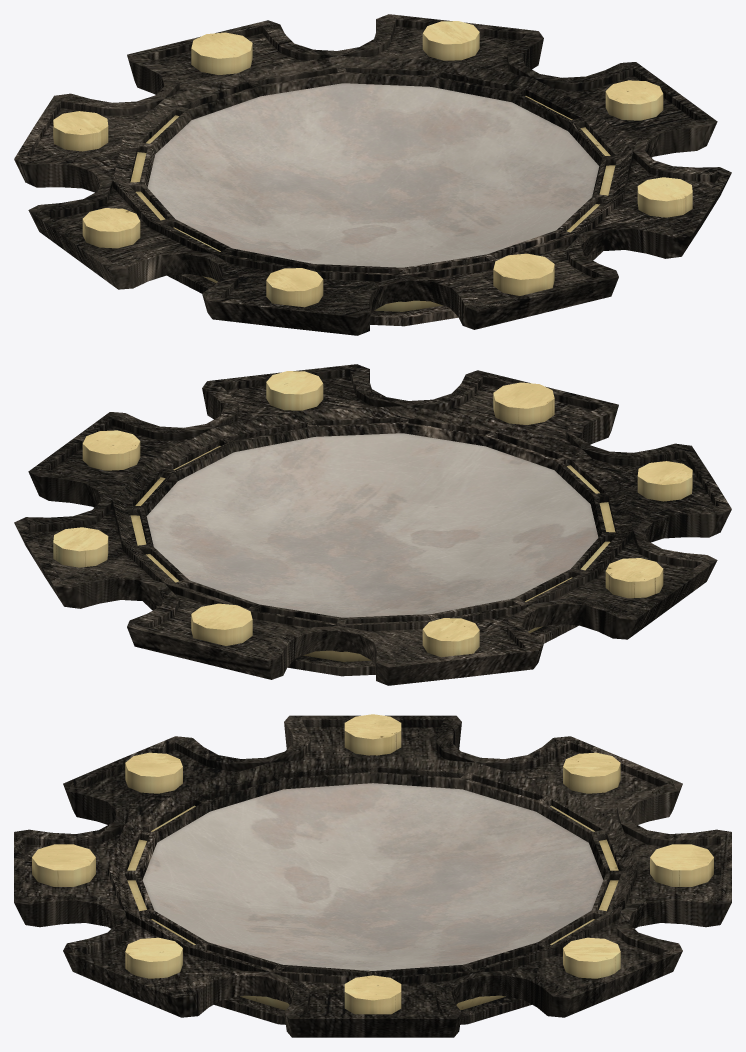
File: Mirror_01_v01.fbx
3 views of the same model, one above another, from view 1: azimuth 30°, elevation 25°; view 2: azimuth 150°, elevation 25°; view 3: azimuth 270°, elevation 25° (orthographic). The views are drawn at different scales.
Parts seen in each view (by area): view 1: MirrorFrame, Mirror; view 2: MirrorFrame, Mirror; view 3: MirrorFrame, Mirror.
Boxes of the visible parts, x1=… form: MirrorFrame: x1=14, y1=14, x2=731, y2=335; Mirror: x1=147, y1=83, x2=599, y2=267; MirrorFrame: x1=14, y1=364, x2=731, y2=685; Mirror: x1=146, y1=433, x2=598, y2=617; MirrorFrame: x1=14, y1=714, x2=731, y2=1037; Mirror: x1=142, y1=783, x2=603, y2=970.
Bounding box in the file's own units: 63.46 × 6.86 × 63.46.
